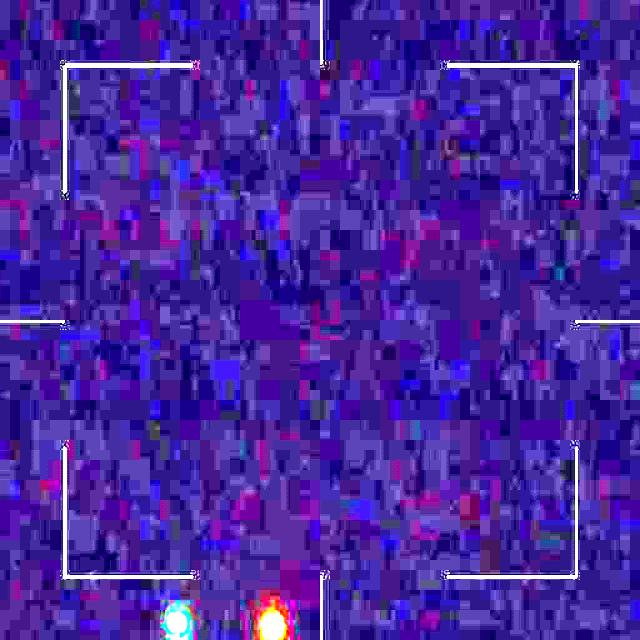bird: (168, 604, 285, 640)
